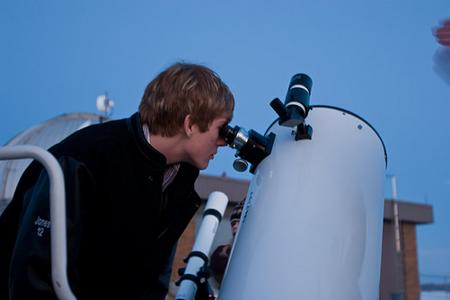person: (2, 64, 234, 297)
